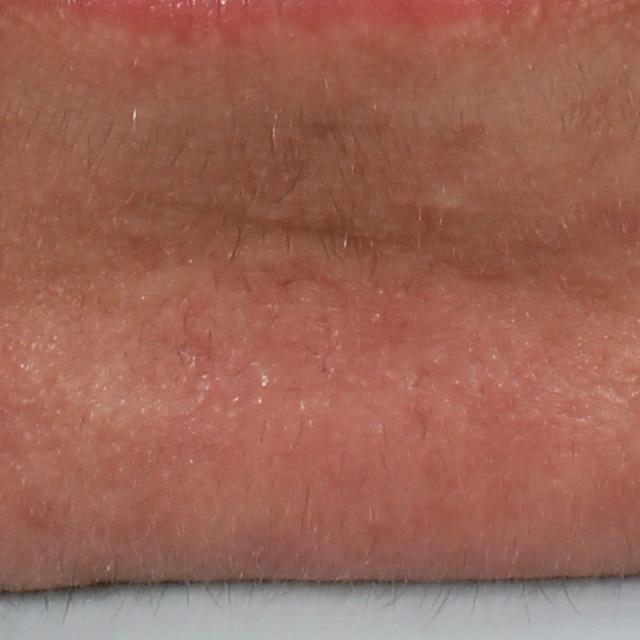hypertrophic_scar: (410, 174, 473, 215)
